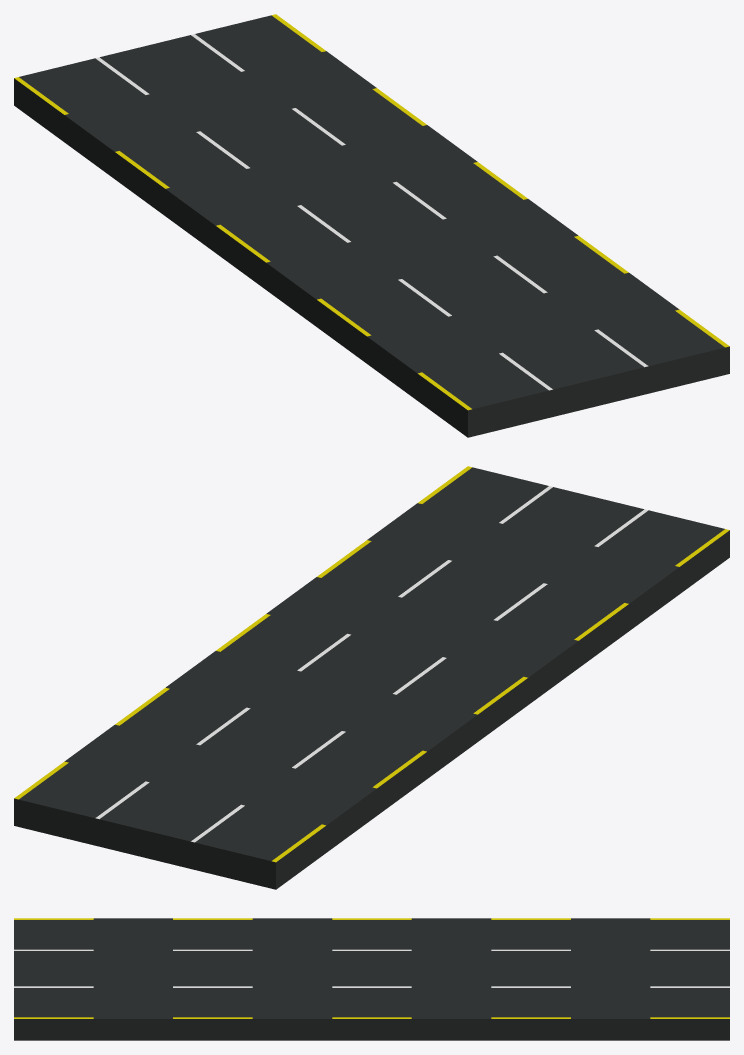
The model's file is Tile Prefab.fbx.
The picture shows the model from 3 angles, top to bottom: view 1: azimuth 30°, elevation 25°; view 2: azimuth 150°, elevation 25°; view 3: azimuth 270°, elevation 25°; orthographic projection. The views are drawn at different scales.
Visible parts, largest first — view 1: Cube; view 2: Cube; view 3: Cube.
Boxes of the visible parts, box(x1,y1,x2,y2) form: Cube: box(14, 14, 729, 437); Cube: box(14, 466, 729, 889); Cube: box(14, 918, 729, 1040).
Bounding box in the file's own units: 200 × 20 × 600.
